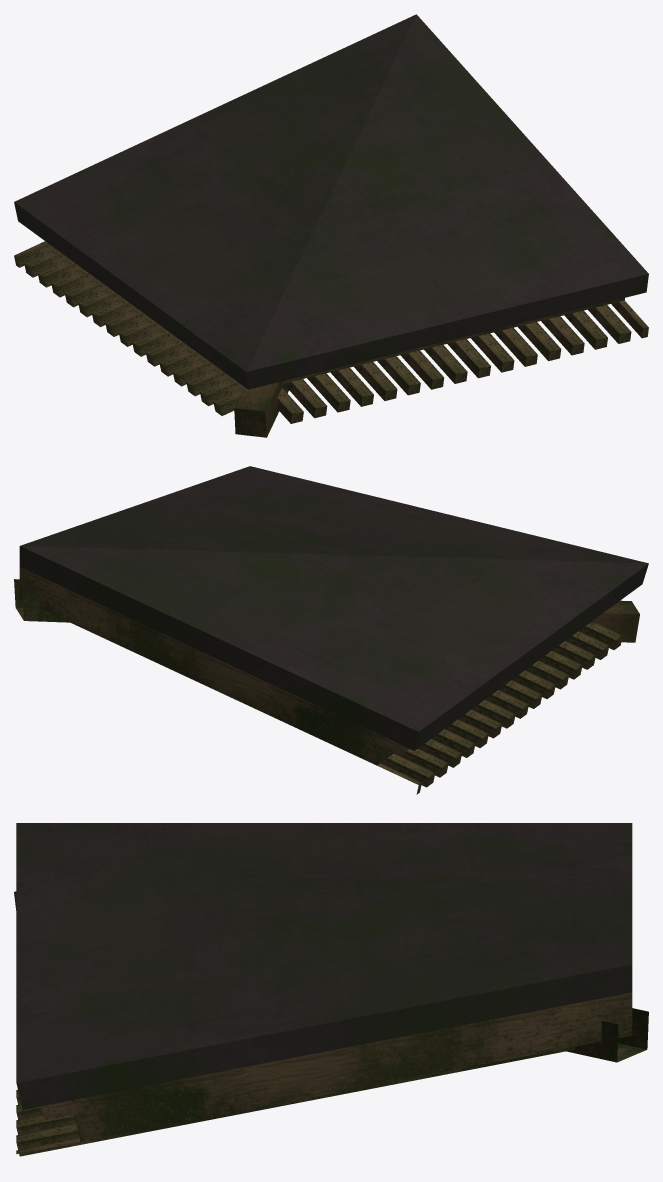
Rendered from shrine_roof_03.fbx.
3 views of the same model, one above another, from view 1: azimuth 30°, elevation 25°; view 2: azimuth 150°, elevation 25°; view 3: azimuth 270°, elevation 25° (orthographic). The views are drawn at different scales.
Visible parts, largest first — view 1: shrine_roof_03; view 2: shrine_roof_03; view 3: shrine_roof_03.
Part boxes in pixels (x1,y1,x2,y2): shrine_roof_03: (14, 14, 648, 437); shrine_roof_03: (14, 466, 648, 794); shrine_roof_03: (14, 823, 648, 1156).
Bounding box in the file's own units: 418 × 155 × 418.
Materials: 1 (1 with a texture image).
